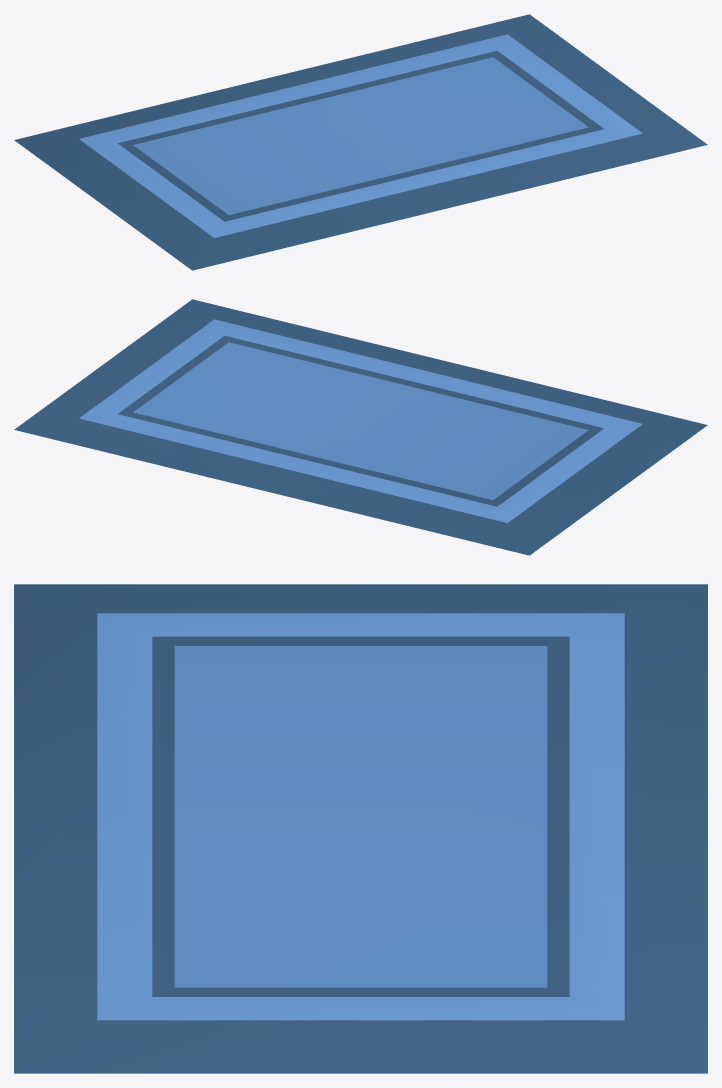
Rendered from SM_Carpet_02.fbx.
The picture shows the model from 3 angles, top to bottom: view 1: azimuth 30°, elevation 25°; view 2: azimuth 150°, elevation 25°; view 3: azimuth 270°, elevation 25°; orthographic projection. The views are drawn at different scales.
Parts seen in each view (by area): view 1: SM_Carpet_02; view 2: SM_Carpet_02; view 3: SM_Carpet_02.
Boxes of the visible parts, x1,y1,x2,y2 form: SM_Carpet_02: [14, 14, 707, 270]; SM_Carpet_02: [14, 299, 707, 555]; SM_Carpet_02: [14, 584, 707, 1073].
Size of the model in its own units: 2.94 by 0.0342 by 1.76.
